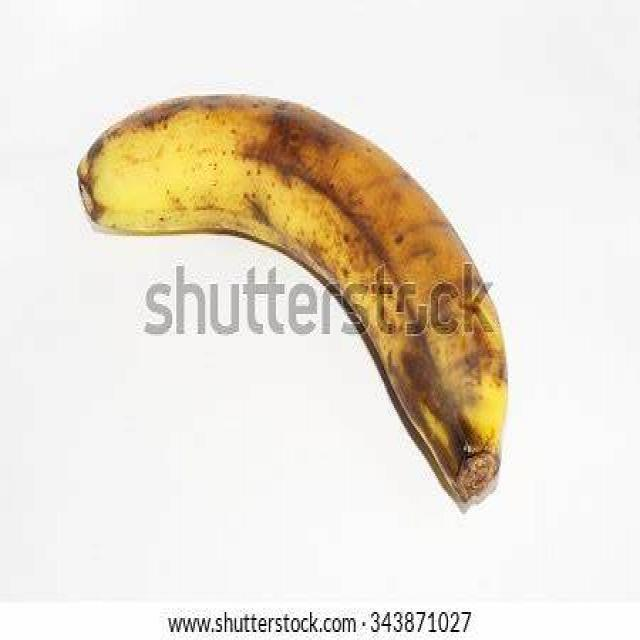Banana: (76, 90, 509, 514)
